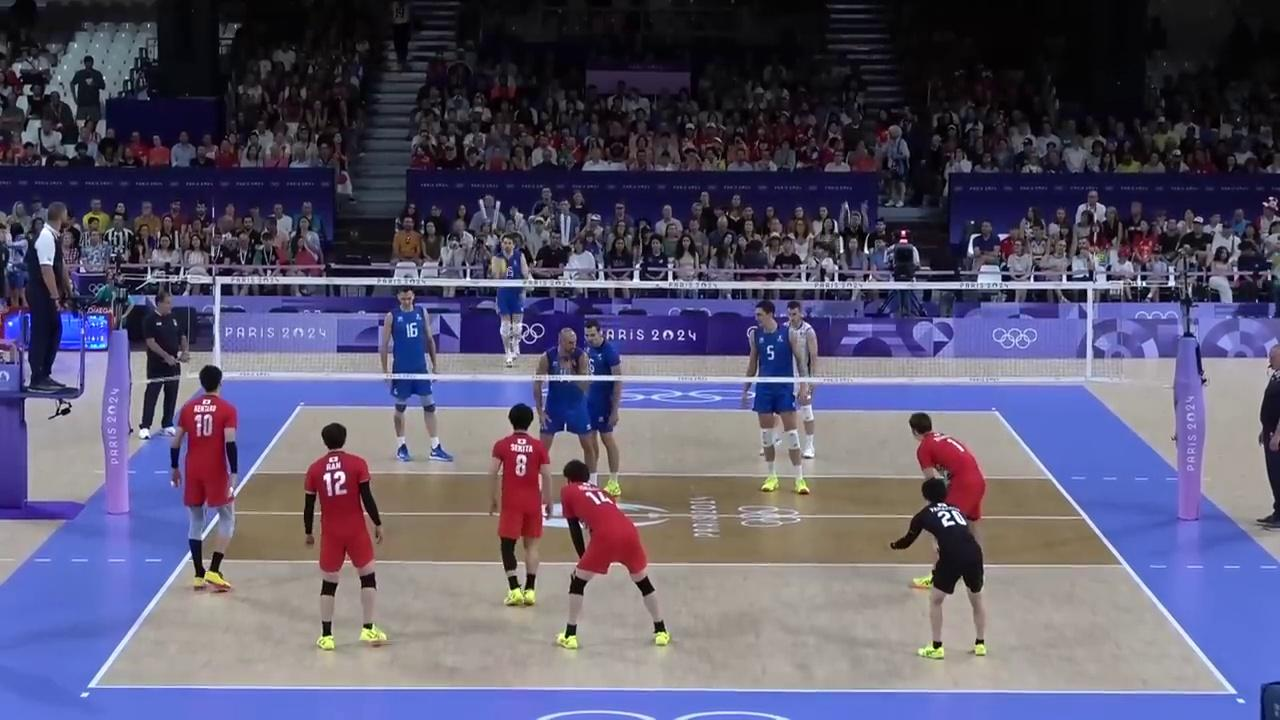ball: (490, 257, 508, 278)
